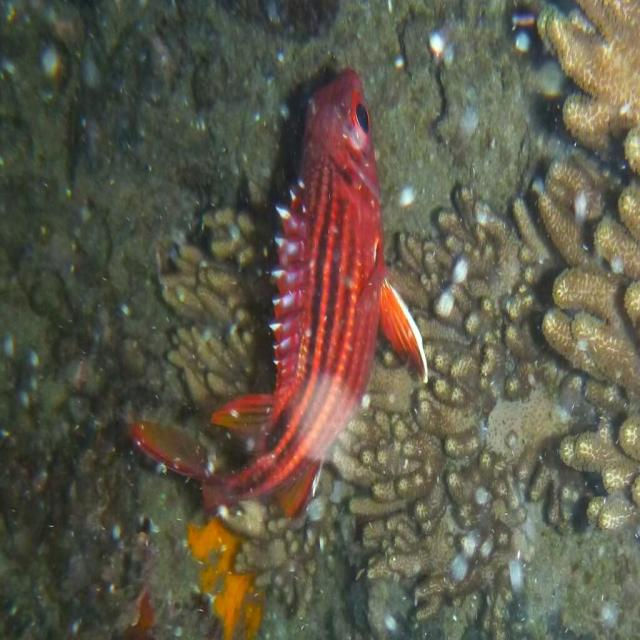Asker Baligi: (123, 59, 440, 525)
